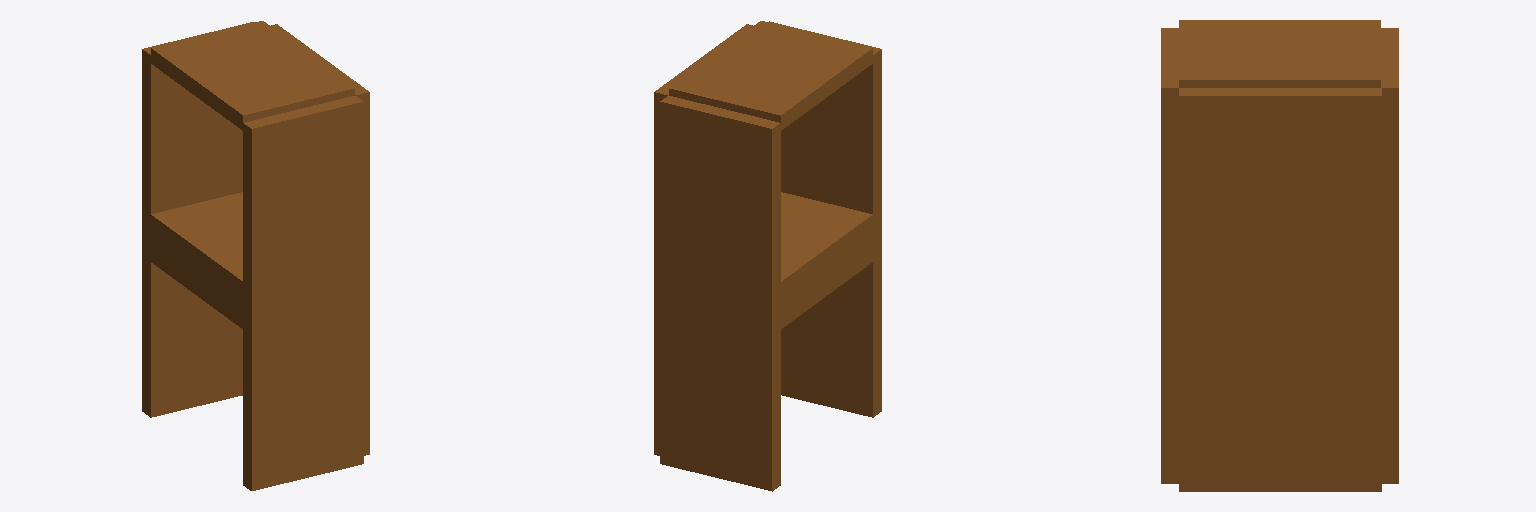
URDF robot description (dummy):
<?xml version="1.0"?>
<robot name="dummy">
  <link name="bottom_wall">
    <visual>
      <origin xyz="0.0 0.0 0.25328901949871374" rpy="0 0 0"/>
      <geometry>
        <mesh filename="bottom_wall.obj" scale="1 1 1"/>
      </geometry>
      <material name="brown">
        <color rgba="0.6 0.4 0.2 1.0"/>
      </material>
    </visual>
    <collision>
      <origin xyz="0.0 0.0 0.25328901949871374" rpy="0 0 0"/>
      <geometry>
        <mesh filename="bottom_wall.obj" scale="1 1 1"/>
      </geometry>
    </collision>
  </link>

  <link name="left_wall">
    <visual>
      <origin xyz="0.0 -0.14821355209093928 0.0" rpy="0 0 0"/>
      <geometry>
        <mesh filename="vertical_wall.obj" scale="1 1 1"/>
      </geometry>
      <material name="brown">
        <color rgba="0.6 0.4 0.2 1.0"/>
      </material>
    </visual>
    <collision>
      <origin xyz="0.0 -0.14821355209093928 0.0" rpy="0 0 0"/>
      <geometry>
        <mesh filename="vertical_wall.obj" scale="1 1 1"/>
      </geometry>
    </collision>
  </link>

  <link name="right_wall">
    <visual>
      <origin xyz="0.0 0.14821355209093928 0.0" rpy="0 0 0"/>
      <geometry>
        <mesh filename="vertical_wall.obj" scale="1 1 1"/>
      </geometry>
      <material name="brown">
        <color rgba="0.6 0.4 0.2 1.0"/>
      </material>
    </visual>
    <collision>
      <origin xyz="0.0 0.14821355209093928 0.0" rpy="0 0 0"/>
      <geometry>
        <mesh filename="vertical_wall.obj" scale="1 1 1"/>
      </geometry>
    </collision>
  </link>

  <link name="back_wall">
    <visual>
      <origin xyz="0.10708489011619225 0.0 0.0" rpy="0 0 0"/>
      <geometry>
        <mesh filename="back_wall.obj" scale="1 1 1"/>
      </geometry>
      <material name="brown">
        <color rgba="0.6 0.4 0.2 1.0"/>
      </material>
    </visual>
    <collision>
      <origin xyz="0.10708489011619225 0.0 0.0" rpy="0 0 0"/>
      <geometry>
        <mesh filename="back_wall.obj" scale="1 1 1"/>
      </geometry>
    </collision>
  </link>

  <link name="top_wall">
    <visual>
      <origin xyz="0.0 0.0 0.5754383099543141" rpy="0 0 0"/>
      <geometry>
        <mesh filename="top_wall.obj" scale="1 1 1"/>
      </geometry>
      <material name="brown">
        <color rgba="0.6 0.4 0.2 1.0"/>
      </material>
    </visual>
    <collision>
      <origin xyz="0.0 0.0 0.5754383099543141" rpy="0 0 0"/>
      <geometry>
        <mesh filename="top_wall.obj" scale="1 1 1"/>
      </geometry>
    </collision>
  </link>

  <joint name="left_wall_joint" type="fixed">
    <origin xyz="0 0 0" rpy="0 0 0"/>
    <parent link="bottom_wall"/>
    <child link="left_wall"/>
  </joint>

  <joint name="right_wall_joint" type="fixed">
    <origin xyz="0 0 0" rpy="0 0 0"/>
    <parent link="bottom_wall"/>
    <child link="right_wall"/>
  </joint>

  <joint name="back_wall_joint" type="fixed">
    <origin xyz="0 0 0" rpy="0 0 0"/>
    <parent link="bottom_wall"/>
    <child link="back_wall"/>
  </joint>

  <joint name="top_wall_joint" type="fixed">
    <origin xyz="0 0 0" rpy="0 0 0"/>
    <parent link="bottom_wall"/>
    <child link="top_wall"/>
  </joint>

</robot>

--- Render facts (derived) ---
3 views of the same robot in one strip: view 1: azimuth 30°, elevation 25°; view 2: azimuth 150°, elevation 25°; view 3: azimuth 270°, elevation 25° (orthographic).
Model dummy with 5 links and 4 joints (4 fixed), rooted at bottom_wall, posed all joints at 0.
Visible links, largest first — view 1: left_wall, right_wall, top_wall, bottom_wall, back_wall; view 2: right_wall, left_wall, top_wall, bottom_wall, back_wall; view 3: back_wall, top_wall, left_wall, right_wall.
Boxes of the visible links, x1,y1,x2,y2 form: left_wall: (243,96,363,490); right_wall: (142,22,253,417); top_wall: (151,21,354,130); bottom_wall: (150,192,242,328); back_wall: (271,24,369,455); right_wall: (660,96,780,491); left_wall: (769,21,881,417); top_wall: (669,21,872,130); bottom_wall: (781,192,873,328); back_wall: (654,24,752,455); back_wall: (1179,88,1381,491); top_wall: (1179,20,1380,87); left_wall: (1161,28,1178,483); right_wall: (1381,28,1398,483).
Size in the robot's own frame: 0.2154 by 0.3223 by 0.6009 metres.
5 mesh visuals loaded from 4 distinct referenced files (4 OBJ).
